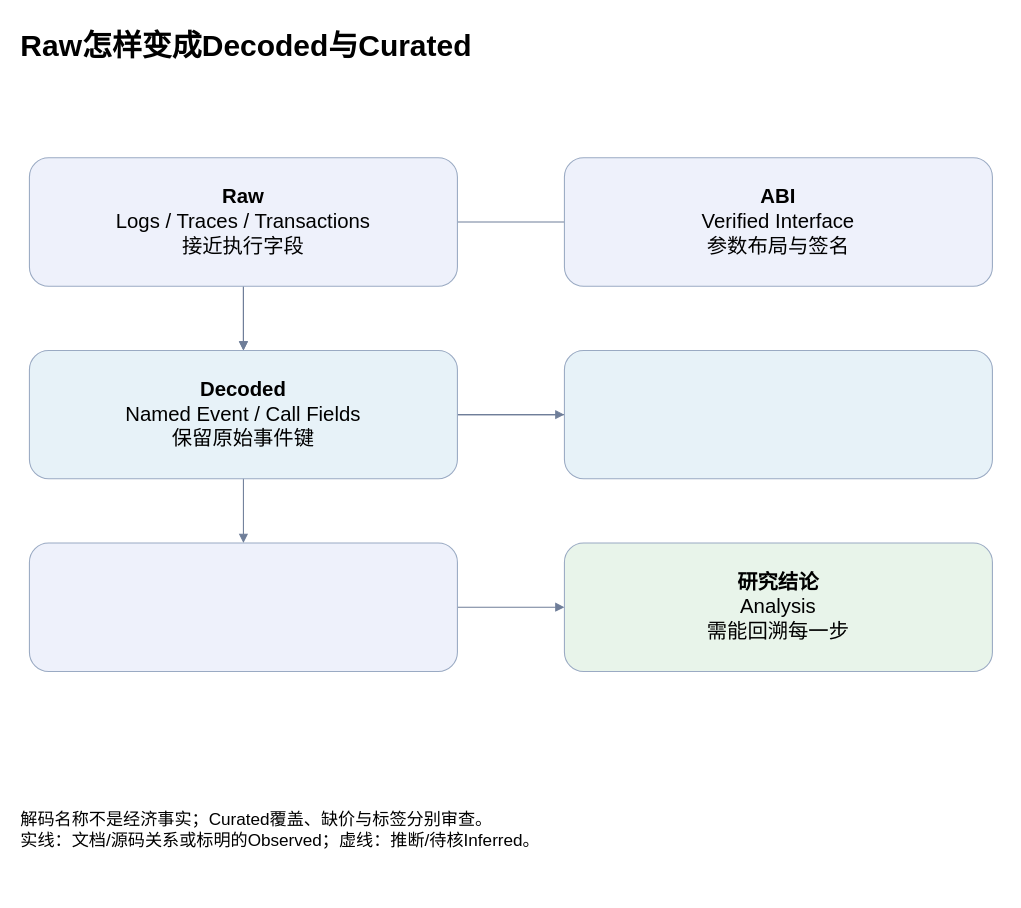
The diagram is 1021 pixels wide and 908 high, and some of its shapes have lost their labels. Each missing label, with the box of its shape:
Curated Transfers / DEX / Fees 引入业务模型: (563, 349, 992, 479)
价格与标签 Prices / Labels 额外来源与覆盖: (28, 542, 457, 671)
